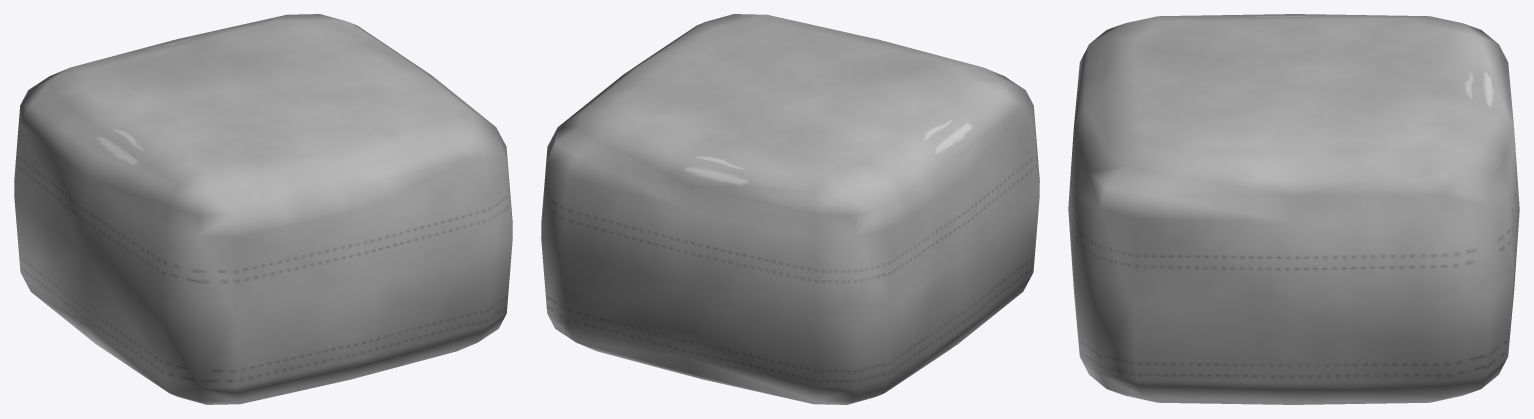
Rendered from RightUpperArm_C1.fbx.
3 views of the same model, side by side, from view 1: azimuth 30°, elevation 25°; view 2: azimuth 150°, elevation 25°; view 3: azimuth 270°, elevation 25° (orthographic). The views are drawn at different scales.
Visible parts, largest first — view 1: Civ_RemeraEstampa_RightUpperArm_C1; view 2: Civ_RemeraEstampa_RightUpperArm_C1; view 3: Civ_RemeraEstampa_RightUpperArm_C1.
Part boxes in pixels (left/top/right/bottom): Civ_RemeraEstampa_RightUpperArm_C1: left=14, top=14, right=512, bottom=404; Civ_RemeraEstampa_RightUpperArm_C1: left=541, top=14, right=1039, bottom=404; Civ_RemeraEstampa_RightUpperArm_C1: left=1068, top=14, right=1519, bottom=404.
Size of the model in its own units: 1.22 by 0.7543 by 1.22.
